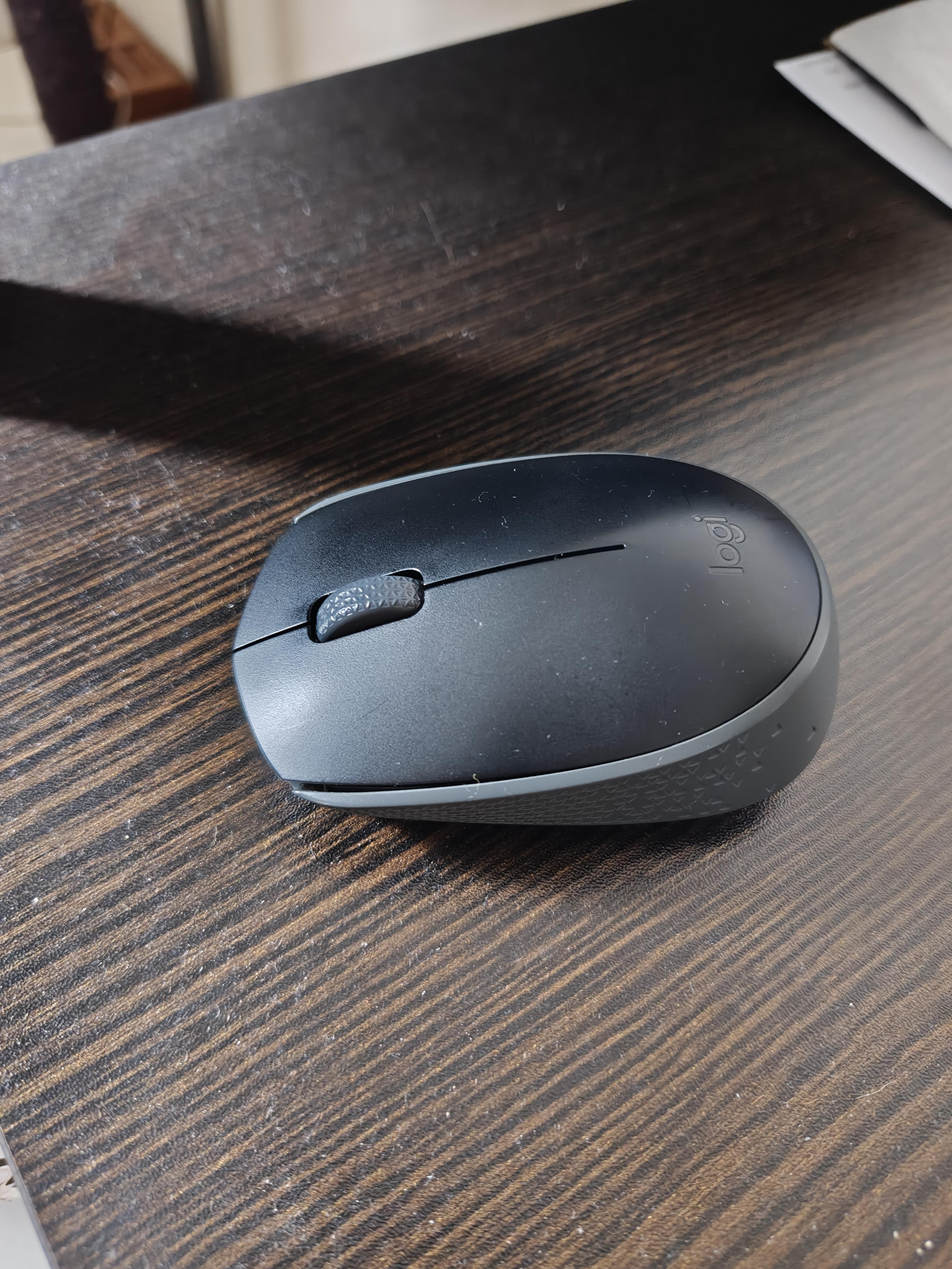mouse: (232, 452, 839, 826)
